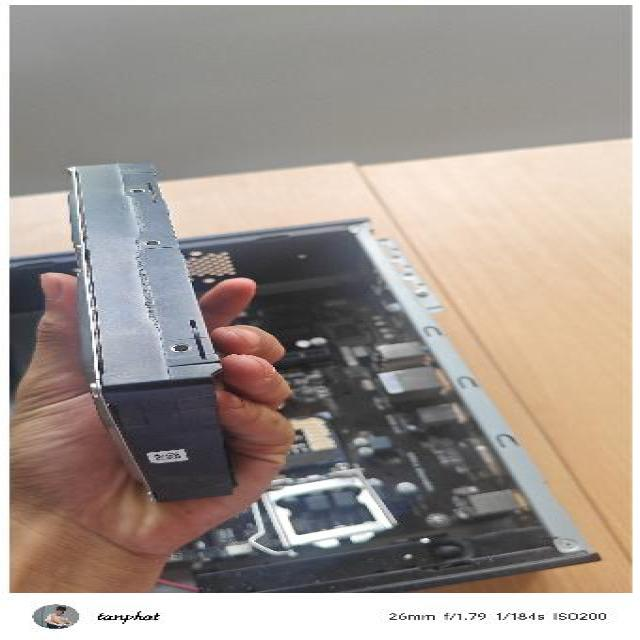DISK: (56, 158, 248, 507)
